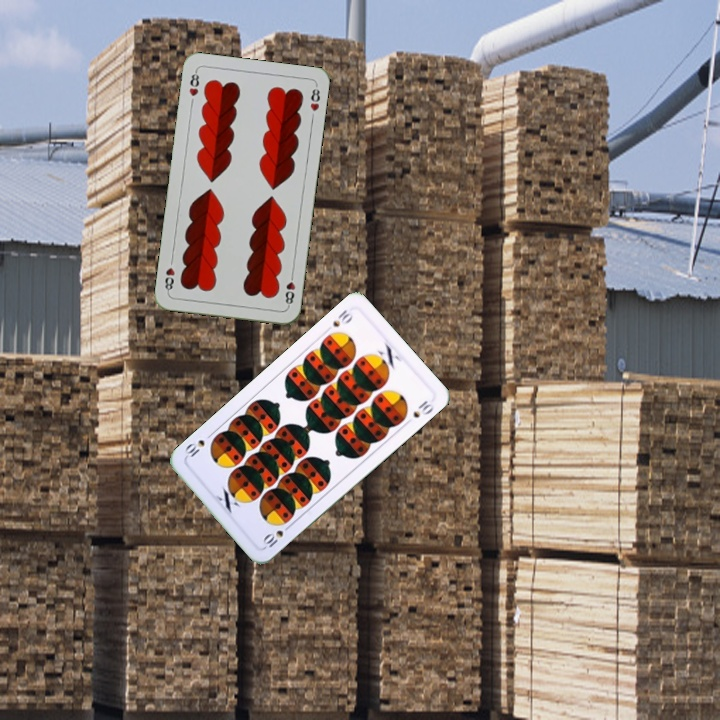H8: (281, 269, 298, 309), (185, 67, 202, 99)
S10: (259, 520, 294, 550), (329, 305, 355, 330)
